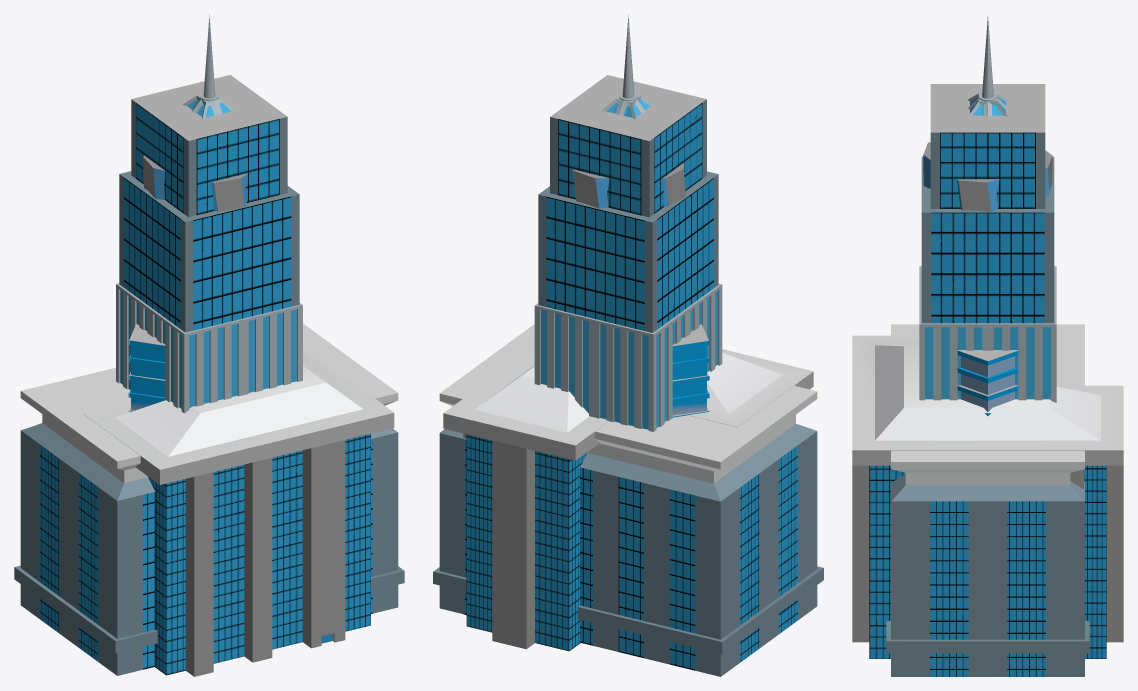
The model's file is buildings.fbx.
3 renders of one model, left to right at view 1: azimuth 30°, elevation 25°; view 2: azimuth 150°, elevation 25°; view 3: azimuth 270°, elevation 25°, orthographic.
Visible parts, largest first — view 1: Building.004, Building.005, Building.006, Building.003, Building.001, Building.007; view 2: Building.005, Building.004, Building.006, Building.003, Building.001, Building.007; view 3: Building.005, Building.004, Building.006, Building.003, Building.001, Building.007.
Boxes of the visible parts, x1=… form: Building.004: x1=84, y1=346, x2=394, y2=676; Building.005: x1=14, y1=323, x2=404, y2=675; Building.006: x1=119, y1=75, x2=299, y2=332; Building.003: x1=116, y1=14, x2=302, y2=413; Building.001: x1=128, y1=324, x2=165, y2=411; Building.007: x1=143, y1=155, x2=247, y2=211; Building.005: x1=433, y1=324, x2=823, y2=676; Building.004: x1=443, y1=346, x2=813, y2=651; Building.006: x1=538, y1=75, x2=718, y2=332; Building.003: x1=534, y1=14, x2=722, y2=431; Building.001: x1=672, y1=324, x2=709, y2=417; Building.007: x1=573, y1=163, x2=685, y2=208; Building.005: x1=886, y1=324, x2=1089, y2=676; Building.004: x1=852, y1=335, x2=1123, y2=658; Building.006: x1=921, y1=84, x2=1054, y2=323; Building.003: x1=919, y1=16, x2=1056, y2=402; Building.001: x1=957, y1=350, x2=1018, y2=415; Building.007: x1=923, y1=142, x2=1052, y2=211.
Bounding box in the file's own units: 53274 × 104544 × 43246.
5 materials, 5 textured.
